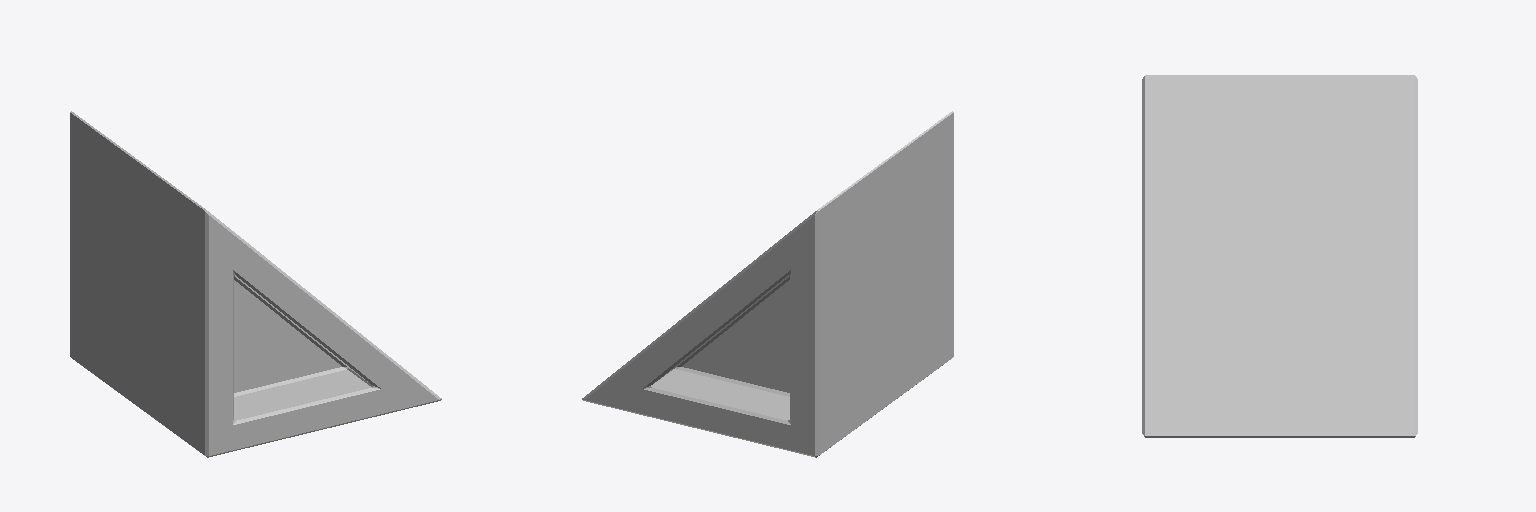
File: triangle.obj
The picture shows the model from 3 angles: view 1: azimuth 30°, elevation 25°; view 2: azimuth 150°, elevation 25°; view 3: azimuth 270°, elevation 25°; orthographic projection.
Parts seen in each view (by area): view 1: Cube; view 2: Cube; view 3: Cube.
Part boxes in pixels (x1,y1,x2,y2): Cube: (70, 111, 441, 457); Cube: (582, 111, 953, 457); Cube: (1142, 75, 1417, 437).
Bounding box in the file's own units: 0.9929 × 0.9929 × 1.